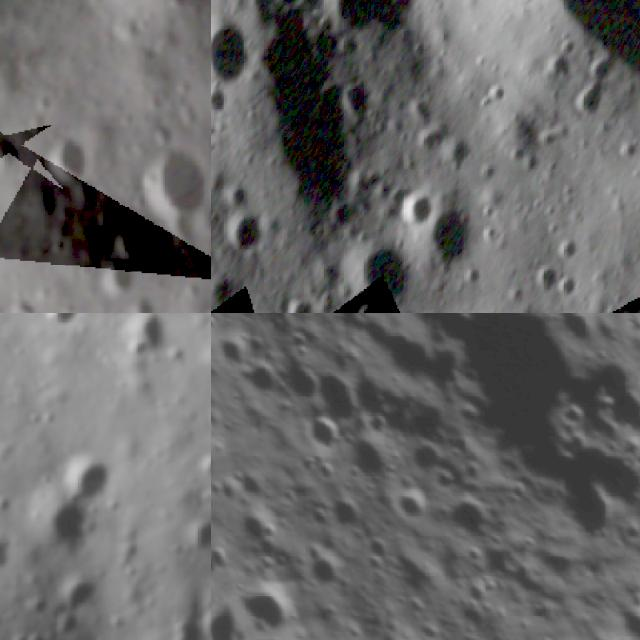crater: (419, 313, 631, 477), (524, 0, 640, 122), (123, 142, 211, 239), (548, 468, 631, 556), (416, 194, 496, 285), (573, 353, 640, 451), (343, 233, 420, 313), (28, 115, 101, 193), (335, 422, 408, 496), (211, 2, 265, 96), (316, 0, 433, 41), (306, 365, 370, 437), (235, 576, 304, 640), (586, 440, 640, 520), (26, 499, 97, 557), (301, 545, 361, 608), (443, 491, 503, 551), (114, 313, 174, 367), (320, 491, 376, 548), (223, 206, 278, 264), (70, 448, 124, 506), (235, 352, 291, 407), (387, 481, 441, 537), (296, 409, 352, 463), (228, 502, 280, 559), (277, 359, 331, 411), (230, 462, 276, 511), (211, 330, 257, 379), (435, 133, 480, 178), (397, 185, 442, 229), (523, 258, 567, 301), (99, 251, 135, 297), (607, 590, 640, 640), (222, 181, 257, 217), (32, 313, 92, 334), (550, 232, 585, 267), (211, 83, 236, 129), (264, 0, 315, 22), (275, 291, 324, 313), (188, 515, 211, 560), (128, 284, 162, 313), (343, 294, 391, 313), (584, 625, 638, 640)
